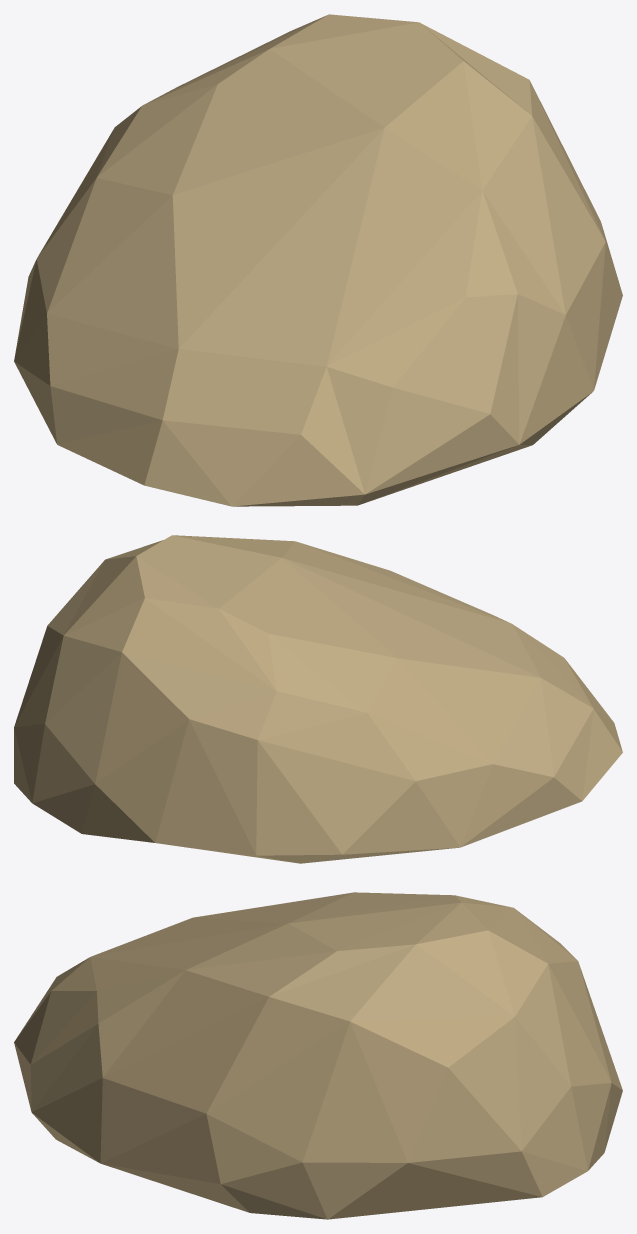
The model's file is Roca-1.FBX.
3 views of the same model, one above another, from view 1: azimuth 30°, elevation 25°; view 2: azimuth 150°, elevation 25°; view 3: azimuth 270°, elevation 25° (orthographic). The views are drawn at different scales.
Visible parts, largest first — view 1: Roca-1; view 2: Roca-1; view 3: Roca-1.
Part boxes in pixels (left/top/right/bottom): Roca-1: left=14, top=14, right=622, bottom=506; Roca-1: left=14, top=535, right=622, bottom=863; Roca-1: left=14, top=892, right=622, bottom=1219.
Bounding box in the file's own units: 148 × 70.17 × 151.
Materials: 1 (1 with a texture image).
